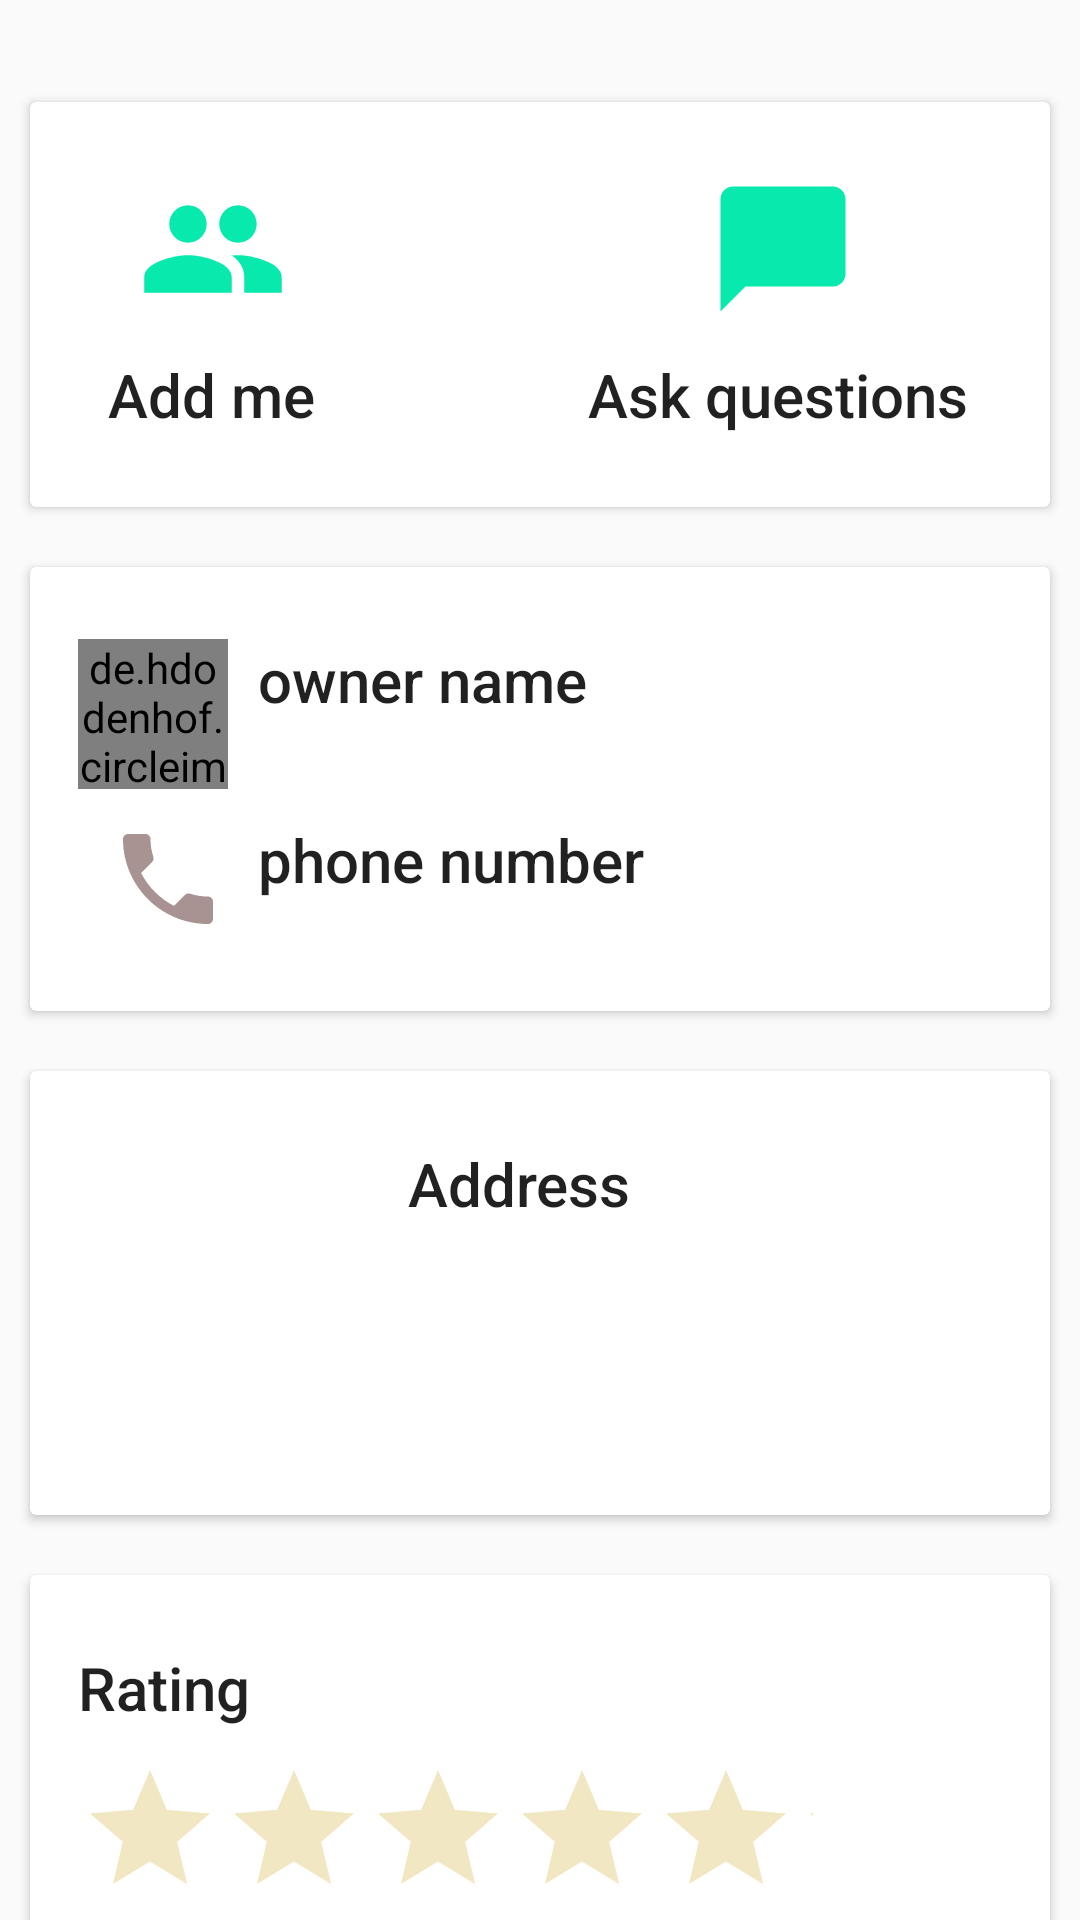

Icon click points for this 1080 x 1920 phone screenshot, format point (x, y):
chat: point (783, 249)
phone call: point (168, 879)
